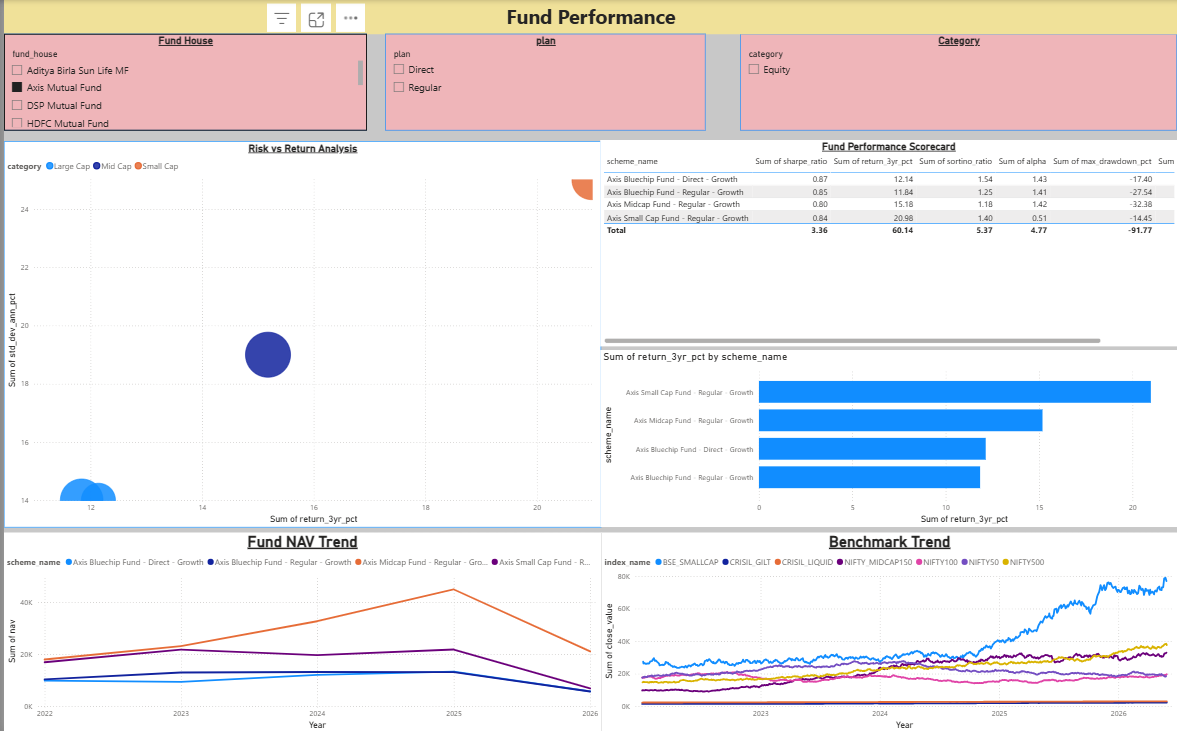

The dashboard page shown, as its layout file describes it:
{"tool":"powerbi","page":{"name":"Fund Performance","canvas":[1920,1200],"ordinal":1},"visuals":[{"type":"slicer","title":"Category","fields":{"Values":["01_fund_master.category"]},"box":[1205.4,56,714.7,158.6],"z":0},{"type":"textbox","box":[0,0,1920.1,56],"z":1000},{"type":"slicer","title":"Fund House","fields":{"Values":["01_fund_master.fund_house"]},"box":[0,56,593.4,158.6],"z":2000},{"type":"slicer","title":"plan","fields":{"Values":["01_fund_master.plan"]},"box":[623.2,56,524.3,158.6],"z":3000},{"type":"scatterChart","title":"Risk vs Return Analysis","fields":{"X":["Sum(07_scheme_performance.return_3yr_pct)"],"Y":["Sum(07_scheme_performance.std_dev_ann_pct)"],"Size":["Sum(07_scheme_performance.aum_crore)"],"Category":["07_scheme_performance.scheme_name"],"Series":["07_scheme_performance.category"]},"box":[0,230.1,976.5,632.3],"z":4000},{"type":"tableEx","title":"Fund Performance Scorecard","fields":{"Values":["07_scheme_performance.scheme_name","Sum(07_scheme_performance.sharpe_ratio)","Sum(07_scheme_performance.return_3yr_pct)","Sum(07_scheme_performance.sortino_ratio)","Sum(07_scheme_performance.alpha)","Sum(07_scheme_performance.max_drawdown_pct)","Sum(07_scheme_performance.morningstar_rating)"]},"box":[975.9,229.5,944.2,337.7],"z":5000},{"type":"clusteredBarChart","fields":{"Category":["07_scheme_performance.scheme_name"],"Y":["Sum(07_scheme_performance.return_3yr_pct)"]},"box":[975.9,572.8,944.2,289.2],"z":6000},{"type":"lineChart","title":"Fund NAV Trend","fields":{"Category":["02_nav_history.date.Variation.Date Hierarchy.Year","02_nav_history.date.Variation.Date Hierarchy.Quarter","02_nav_history.date.Variation.Date Hierarchy.Month","02_nav_history.date.Variation.Date Hierarchy.Day"],"Y":["Sum(02_nav_history.nav)"],"Series":["01_fund_master.scheme_name"]},"box":[0,872,977,328],"z":7000},{"type":"lineChart","title":"Benchmark Trend","fields":{"Y":["Sum(10_benchmark_indices.close_value)"],"Category":["10_benchmark_indices.date.Variation.Date Hierarchy.Year","10_benchmark_indices.date.Variation.Date Hierarchy.Quarter","10_benchmark_indices.date.Variation.Date Hierarchy.Month","10_benchmark_indices.date.Variation.Date Hierarchy.Day"],"Series":["10_benchmark_indices.index_name"]},"box":[977,872,943,328],"z":8000}]}

Visuals, with their boxes in screenshot pixels (x1, y1, x2, y2), scaled from the page's 1920x1200 canvas onto the 1177x731 screenshot:
"Category" slicer: x1=739, y1=34, x2=1176, y2=131
textbox: x1=0, y1=0, x2=1176, y2=34
"Fund House" slicer: x1=0, y1=34, x2=364, y2=131
"plan" slicer: x1=382, y1=34, x2=703, y2=131
"Risk vs Return Analysis" scatterChart: x1=0, y1=140, x2=599, y2=525
"Fund Performance Scorecard" tableEx: x1=598, y1=140, x2=1176, y2=346
clusteredBarChart - 07_scheme_performance.scheme_name x Sum(07_scheme_performance.return_3yr_pct): x1=598, y1=349, x2=1176, y2=525
"Fund NAV Trend" lineChart: x1=0, y1=531, x2=599, y2=730
"Benchmark Trend" lineChart: x1=599, y1=531, x2=1176, y2=730
